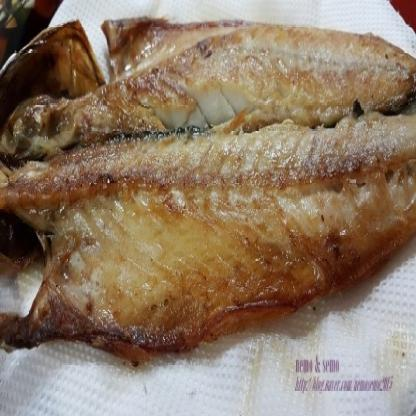Peixe: (0, 18, 414, 386)
